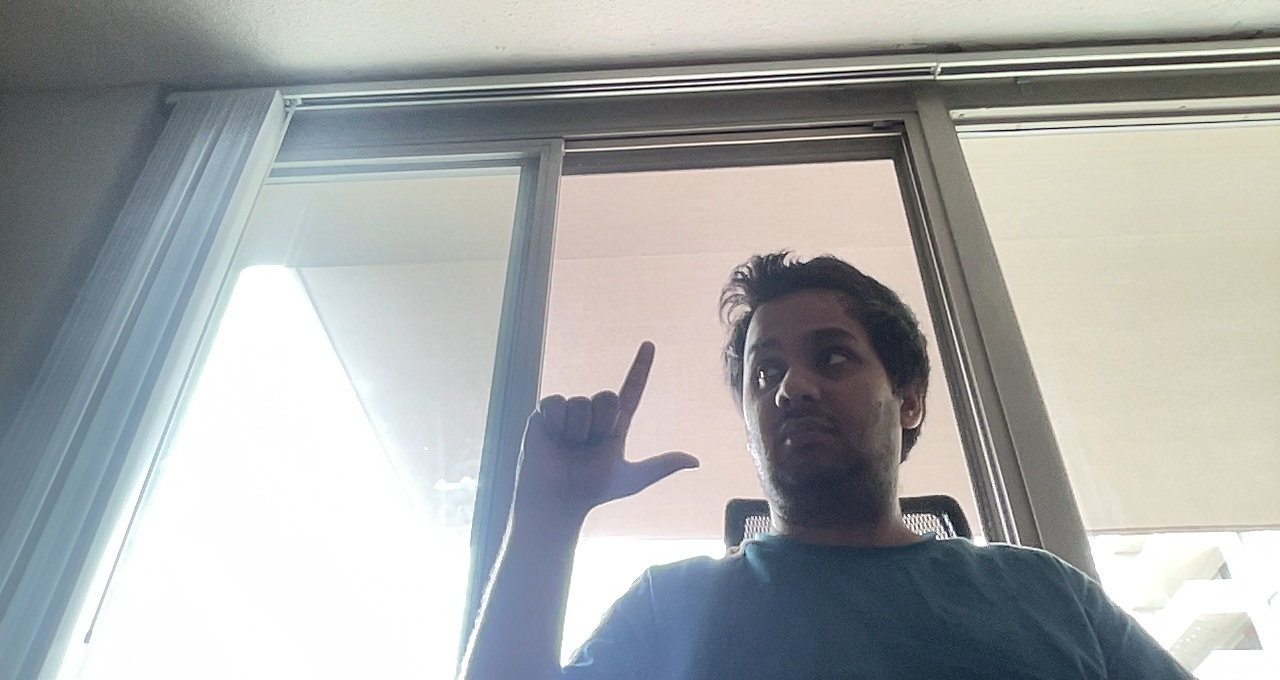L: (517, 335, 705, 504)
